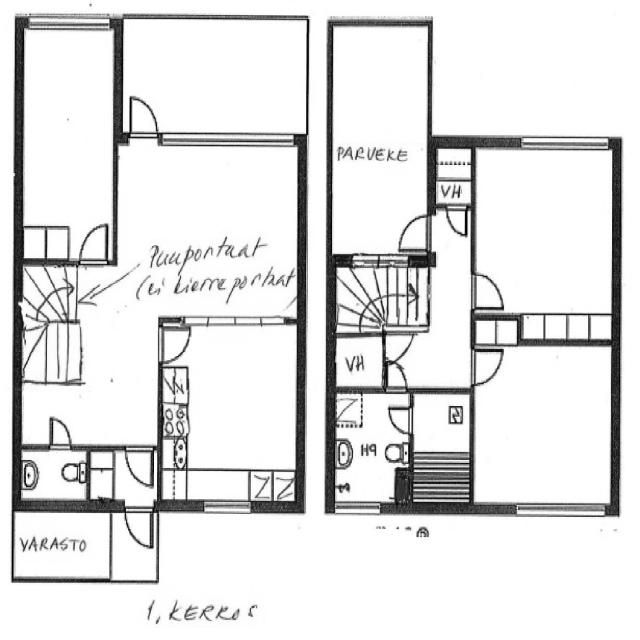door: (74, 218, 114, 268), (125, 90, 162, 142), (122, 498, 156, 552), (469, 267, 507, 313), (396, 210, 434, 255), (122, 442, 158, 489), (468, 345, 508, 387), (156, 323, 192, 367), (381, 326, 417, 367), (385, 400, 418, 440), (44, 412, 76, 451), (444, 202, 469, 240)
window: (161, 125, 294, 156), (509, 495, 609, 526), (23, 10, 113, 38), (518, 129, 609, 154), (196, 312, 292, 331), (341, 247, 415, 271), (196, 495, 257, 519), (332, 497, 387, 519)
zone: (473, 143, 617, 340), (159, 322, 301, 504), (329, 12, 430, 265), (470, 340, 616, 511), (20, 21, 115, 256), (329, 389, 411, 510), (12, 505, 112, 581), (411, 392, 473, 480), (19, 446, 90, 506), (330, 330, 386, 392), (430, 142, 475, 209), (471, 314, 522, 348)
